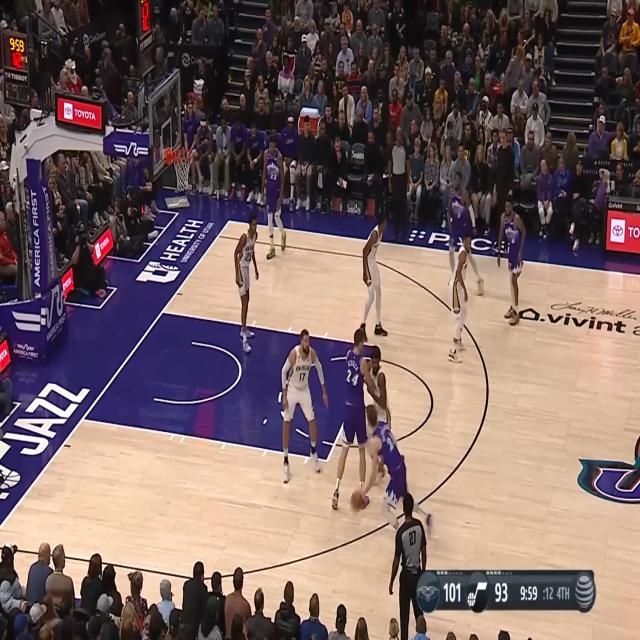Ball: (351, 488, 365, 512)
Clock: (1, 32, 28, 71), (139, 0, 151, 40)
Hoop: (173, 147, 194, 190)
Overlay: (416, 569, 596, 615)
Player: (356, 402, 434, 543), (330, 324, 372, 506), (280, 326, 328, 484), (447, 168, 484, 300), (362, 344, 392, 483), (495, 192, 526, 324), (232, 214, 260, 356), (360, 209, 389, 343), (447, 226, 474, 363), (262, 135, 287, 260)
Ref: (389, 494, 427, 640), (388, 123, 410, 244)
Scoreboard: (416, 570, 573, 613)
